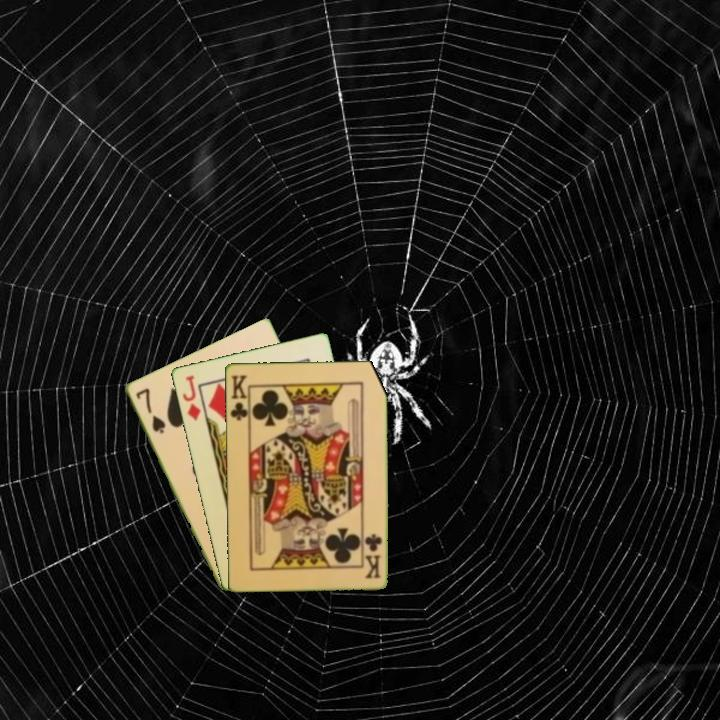7s: (132, 384, 168, 436)
Jd: (178, 372, 203, 423)
Kc: (226, 371, 251, 425), (362, 530, 384, 581)
